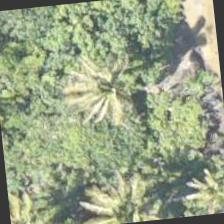Kelapa_Sawit: (58, 43, 156, 142), (7, 183, 68, 223)
